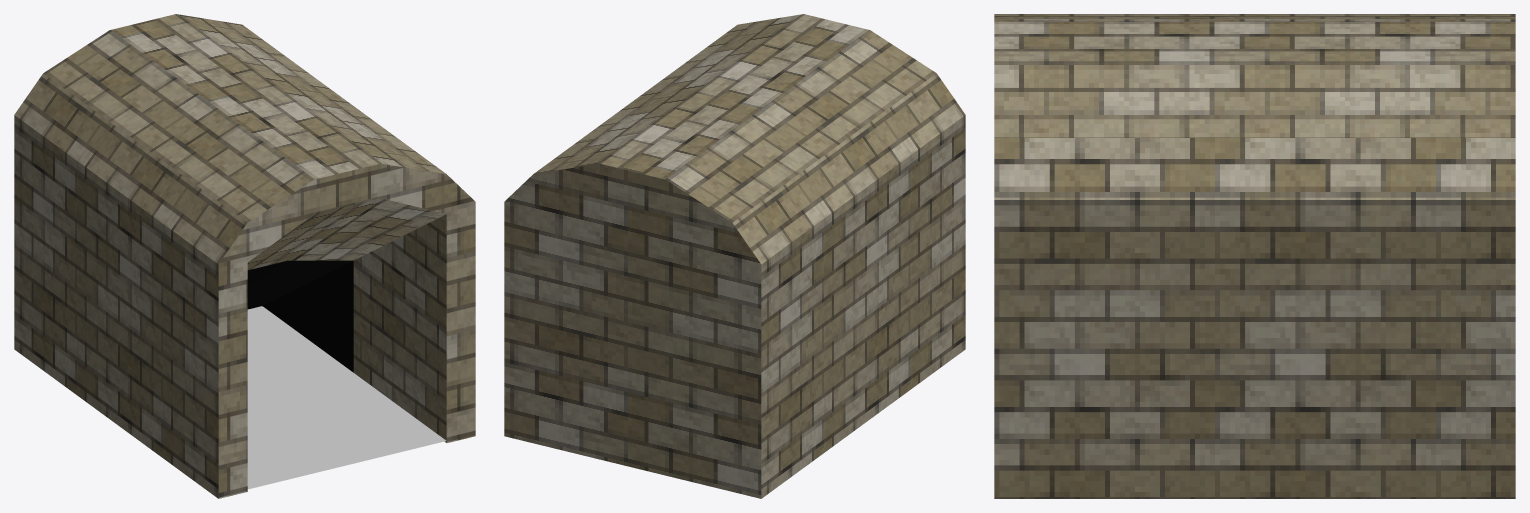
The model's file is stairs_Down.fbx.
3 views of the same model, side by side, from view 1: azimuth 30°, elevation 25°; view 2: azimuth 150°, elevation 25°; view 3: azimuth 270°, elevation 25° (orthographic). The views are drawn at different scales.
Visible parts, largest first — view 1: downstair_sq.006; view 2: downstair_sq.006; view 3: downstair_sq.006.
Part boxes in pixels (x1,y1,x2,y2): downstair_sq.006: (14,14,475,498); downstair_sq.006: (504,14,965,498); downstair_sq.006: (994,14,1515,498).
Bounding box in the file's own units: 200 × 220 × 275.
